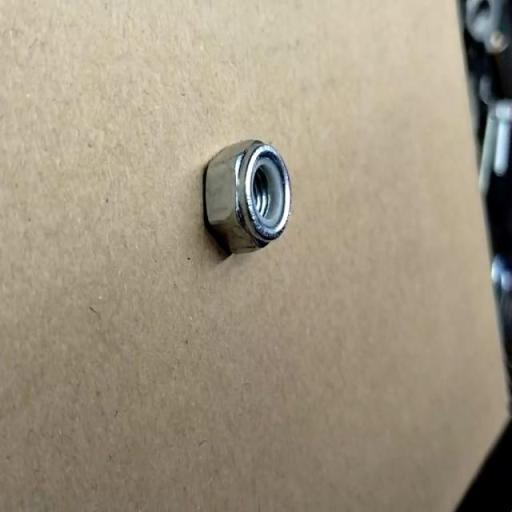Nut: (202, 139, 292, 258)
